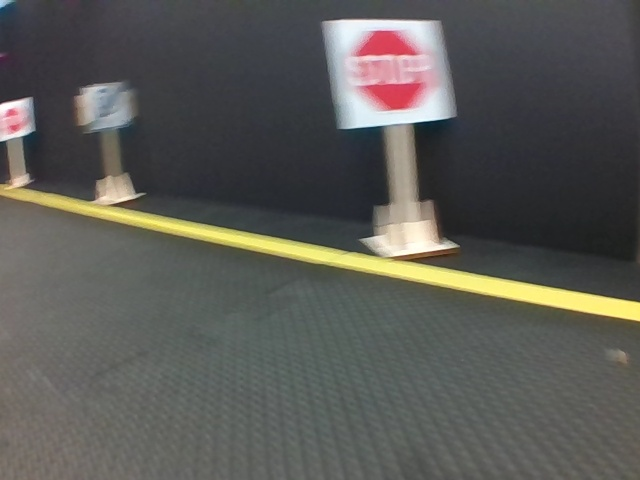no30: (81, 83, 133, 129)
stop: (331, 23, 452, 120), (1, 101, 33, 136)
